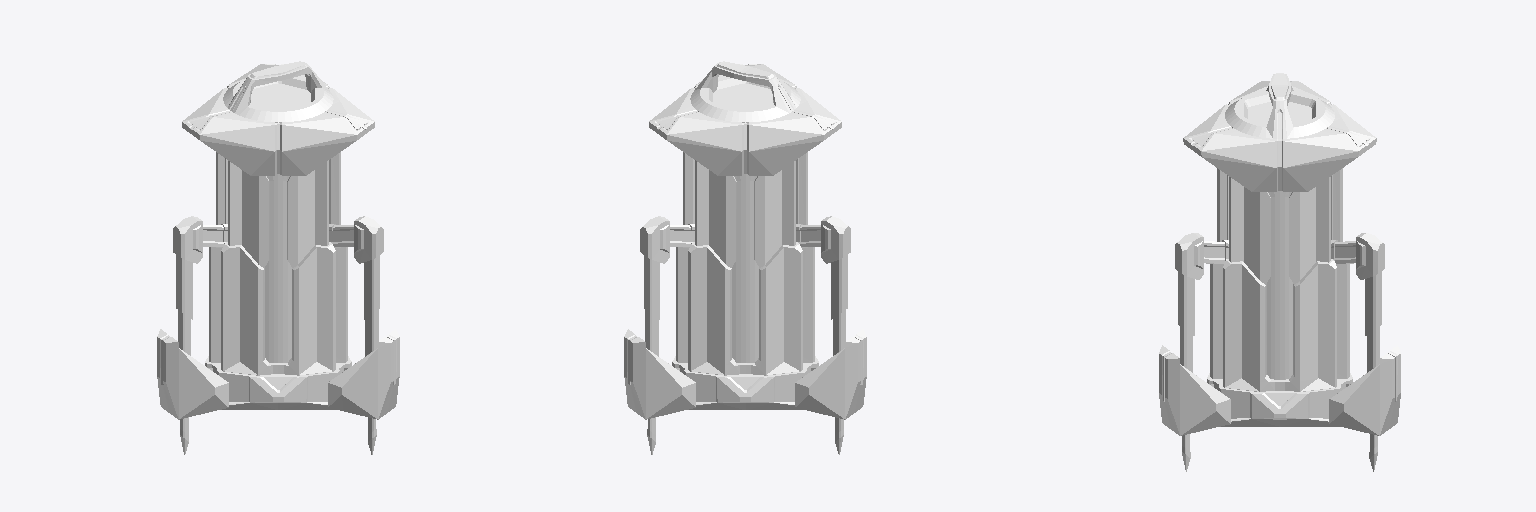
3 views of the same model, side by side, from view 1: azimuth 30°, elevation 25°; view 2: azimuth 150°, elevation 25°; view 3: azimuth 270°, elevation 25° (orthographic).
Parts seen in each view (by area): view 1: EQ_Bomb_S0_Skelmesh.mo; view 2: EQ_Bomb_S0_Skelmesh.mo; view 3: EQ_Bomb_S0_Skelmesh.mo.
Part boxes in pixels (x1,y1,x2,y2): EQ_Bomb_S0_Skelmesh.mo: (157,61,399,454); EQ_Bomb_S0_Skelmesh.mo: (624,61,866,454); EQ_Bomb_S0_Skelmesh.mo: (1159,73,1400,471).
Bounding box in the file's own units: 0.9244 × 1.7 × 1.03.
3 materials, 1 textured.